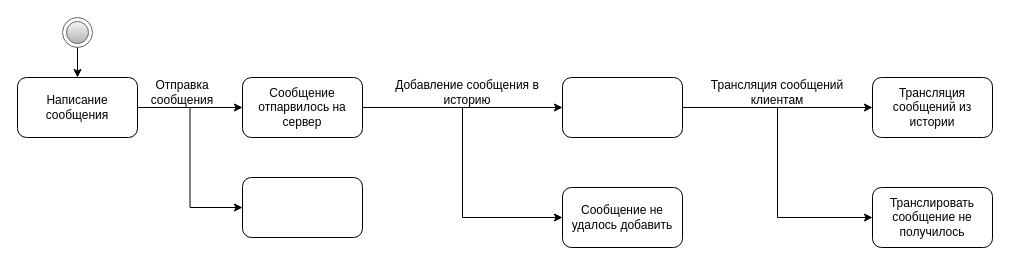
Image size: 1010x265. Some labels were removed from this diagram. The shapes that lost their labels are listed below. From the top down, each one's centre as x and y in pixels, then its label:
At (x=622, y=107): "Сообщение добавить".
At (x=302, y=207): "Сообщение не отправилось".
